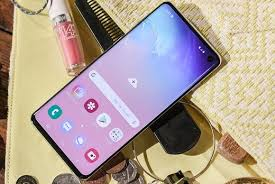samsung: (27, 1, 223, 178)
